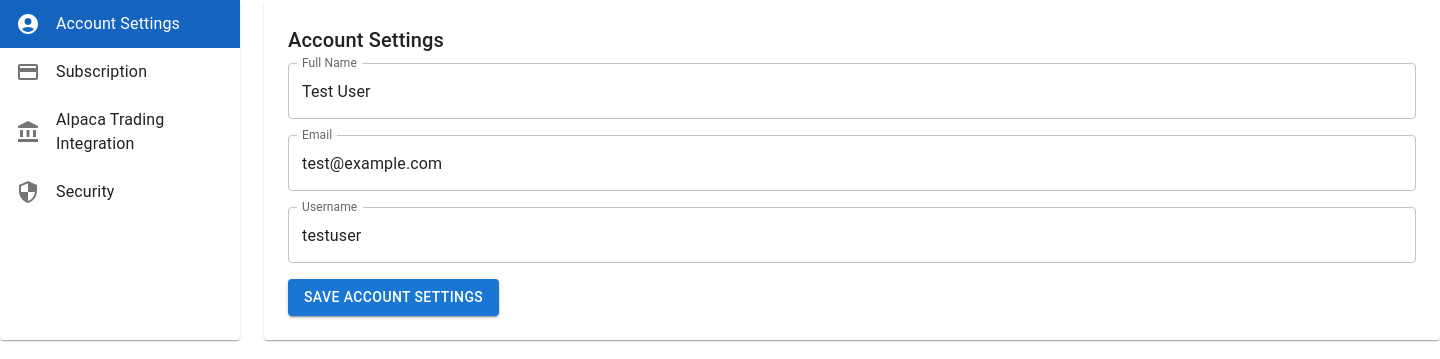
Test: Settings Component › Navigation Menu › switches to Subscription section when clicked
Step 1. Click the button "Subscription" → coordinates (82, 72), box [16,60,147,84]
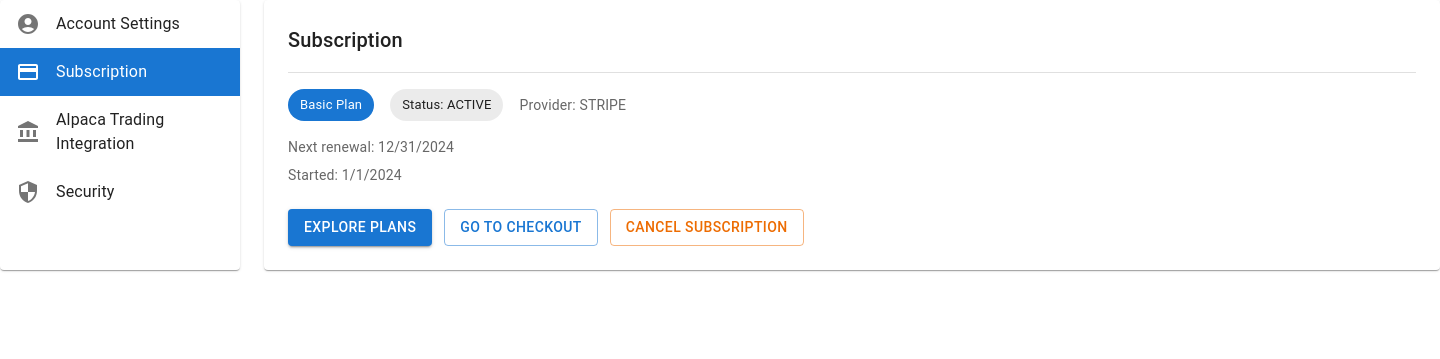
Expected: the text "Subscription" is shown, [56,62,147,81]
Expected: the text "Basic Plan" is shown, [300,97,362,112]
Expected: the label labelled "Full Name" is gone
